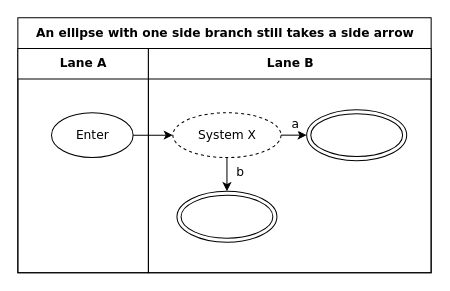
This 450x291 diagram has some shape labels left out. Here are the shapes that lost their labels. From the top down, the centre of each, then its label:
At point 356,135: "Done a".
At point 226,216: "Done b".
